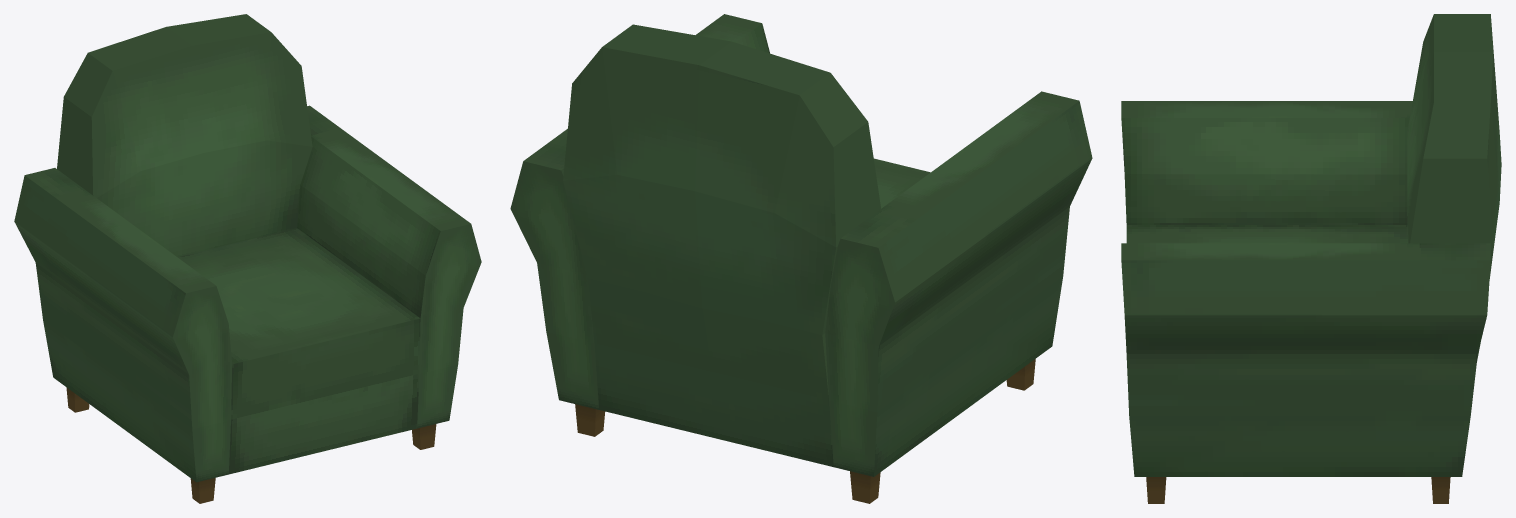
The picture shows the model from 3 angles, left to right: view 1: azimuth 30°, elevation 25°; view 2: azimuth 150°, elevation 25°; view 3: azimuth 270°, elevation 25°; orthographic projection. The views are drawn at different scales.
Visible parts, largest first — view 1: Armchair; view 2: Armchair; view 3: Armchair.
Boxes of the visible parts, x1=… form: Armchair: x1=14, y1=14, x2=481, y2=503; Armchair: x1=510, y1=14, x2=1092, y2=503; Armchair: x1=1121, y1=14, x2=1501, y2=503.
Size of the model in its own units: 1.15 by 1.2 by 1.07.
Materials: 1 (1 with a texture image).
